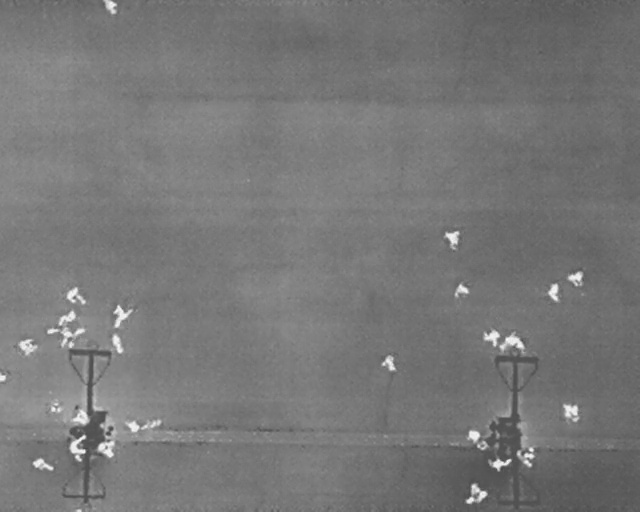Person: (58, 320, 88, 350), (46, 327, 71, 349), (67, 433, 85, 463), (53, 308, 78, 329), (465, 482, 487, 505), (500, 332, 526, 351), (108, 330, 126, 357), (112, 304, 133, 327), (560, 401, 581, 422), (65, 285, 87, 305), (443, 228, 460, 253), (17, 337, 38, 357), (70, 405, 89, 426), (516, 447, 535, 468), (31, 455, 54, 472), (483, 326, 500, 348), (489, 457, 512, 472), (97, 440, 115, 458), (381, 353, 398, 372), (567, 271, 585, 287), (454, 280, 470, 297), (123, 419, 141, 434), (548, 283, 561, 302), (467, 427, 481, 444), (105, 0, 118, 15)
